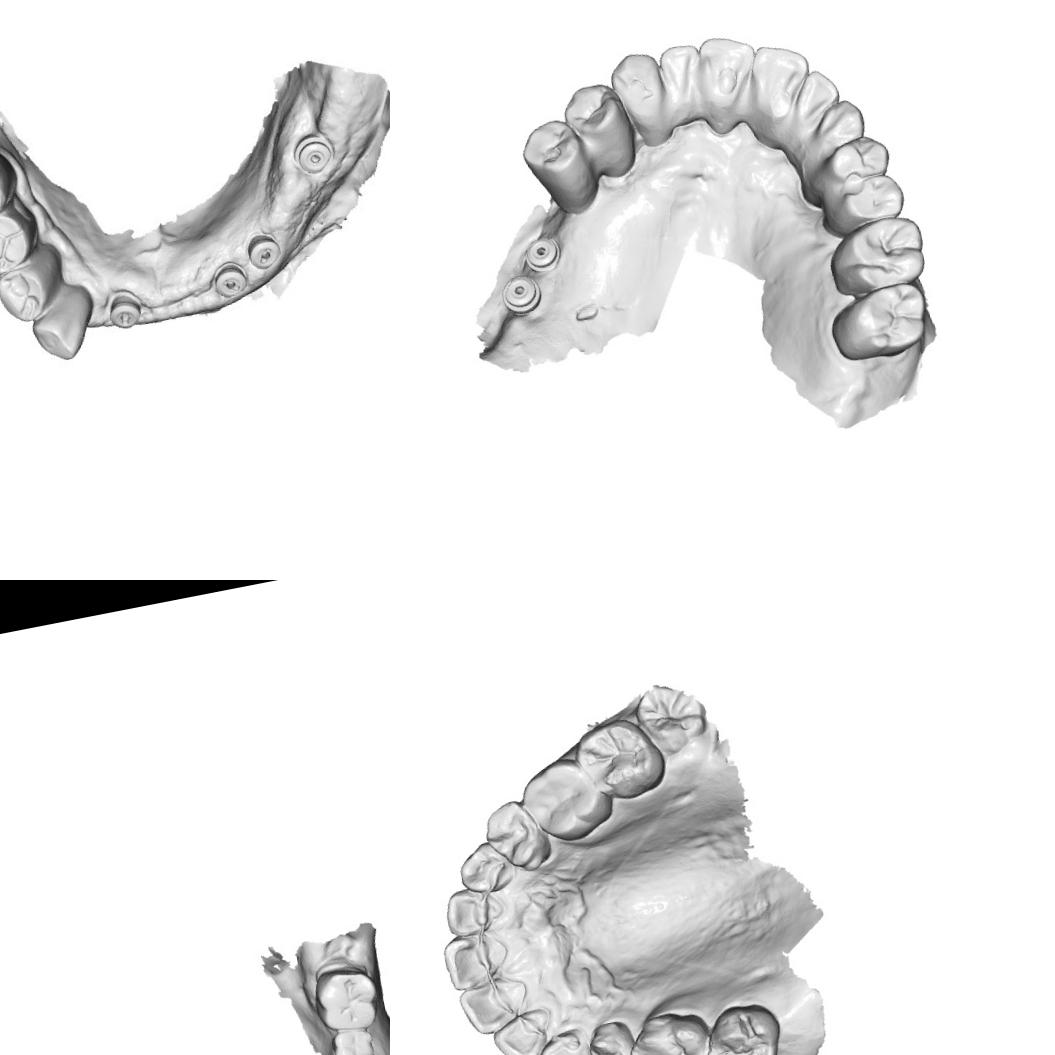canine: (22, 293, 94, 367), (602, 45, 668, 120), (452, 836, 518, 897), (805, 93, 870, 153), (530, 1021, 599, 1055)
implant: (497, 269, 544, 318), (290, 130, 334, 174), (519, 232, 563, 274)
implant_minus: (211, 258, 255, 304), (103, 288, 146, 335), (243, 231, 280, 269)
incisor: (742, 36, 816, 111), (693, 27, 765, 102), (455, 972, 532, 1038), (439, 926, 513, 992), (440, 880, 509, 938), (653, 39, 710, 104), (488, 1004, 558, 1055), (784, 64, 843, 124)
molar: (822, 276, 936, 366), (516, 750, 618, 848), (568, 711, 670, 807), (822, 210, 932, 296), (628, 674, 714, 760), (693, 996, 790, 1055), (307, 961, 381, 1038), (622, 1004, 720, 1055), (0, 140, 22, 231), (328, 1025, 377, 1055)
premolar: (478, 793, 556, 878), (516, 112, 592, 190), (822, 167, 907, 232), (559, 78, 630, 149), (817, 130, 895, 186), (0, 258, 59, 325), (0, 207, 42, 281), (576, 1017, 643, 1055)
